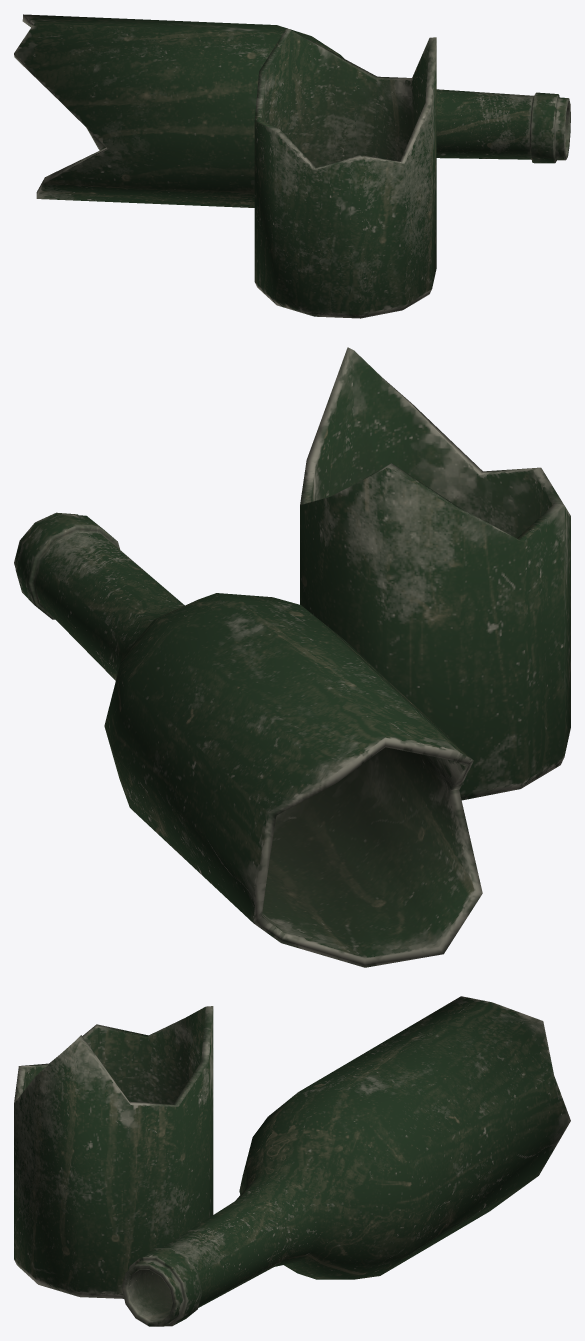
File: street_bottle2.fbx
The picture shows the model from 3 angles, top to bottom: view 1: azimuth 30°, elevation 25°; view 2: azimuth 150°, elevation 25°; view 3: azimuth 270°, elevation 25°; orthographic projection. The views are drawn at different scales.
Visible parts, largest first — view 1: street_bottle2; view 2: street_bottle2; view 3: street_bottle2.
Boxes of the visible parts, x1,y1,x2,y2 form: street_bottle2: (14,14,570,318); street_bottle2: (14,347,570,967); street_bottle2: (14,996,570,1326).
Bounding box in the file's own units: 0.5174 × 0.2774 × 0.5324.
1 material, 1 textured.
